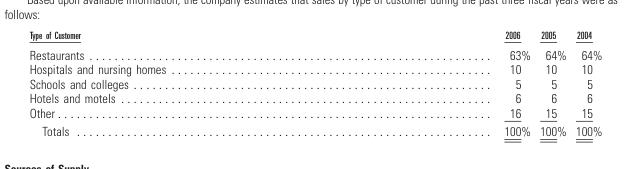table: (28, 28, 601, 138)
table column: (28, 28, 497, 138), (497, 28, 534, 138), (534, 28, 570, 138), (570, 28, 601, 138)
table column header: (28, 28, 601, 43)
table row: (28, 43, 601, 61), (28, 121, 601, 138), (28, 105, 601, 121), (28, 28, 601, 43), (28, 61, 601, 76), (28, 90, 601, 105), (28, 76, 601, 90)
